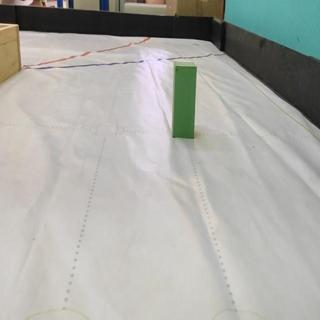greenbox: (171, 63, 196, 138)
